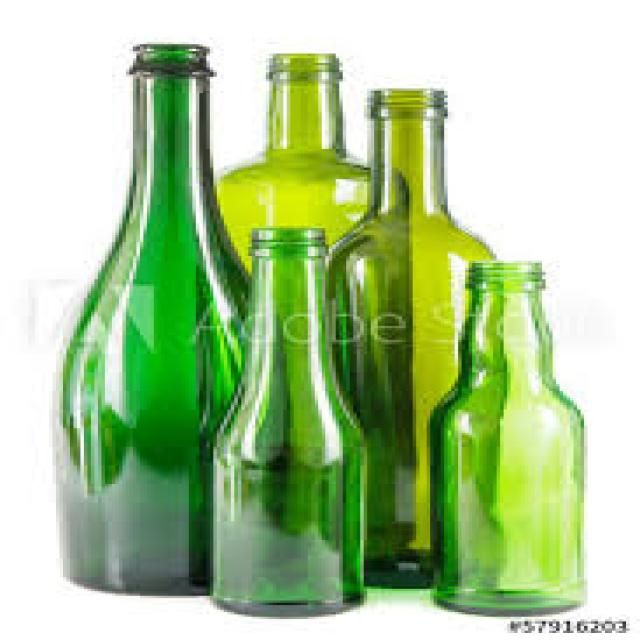glass: (53, 37, 249, 596), (325, 86, 490, 587), (206, 228, 364, 614), (423, 259, 577, 615), (213, 51, 364, 263)
